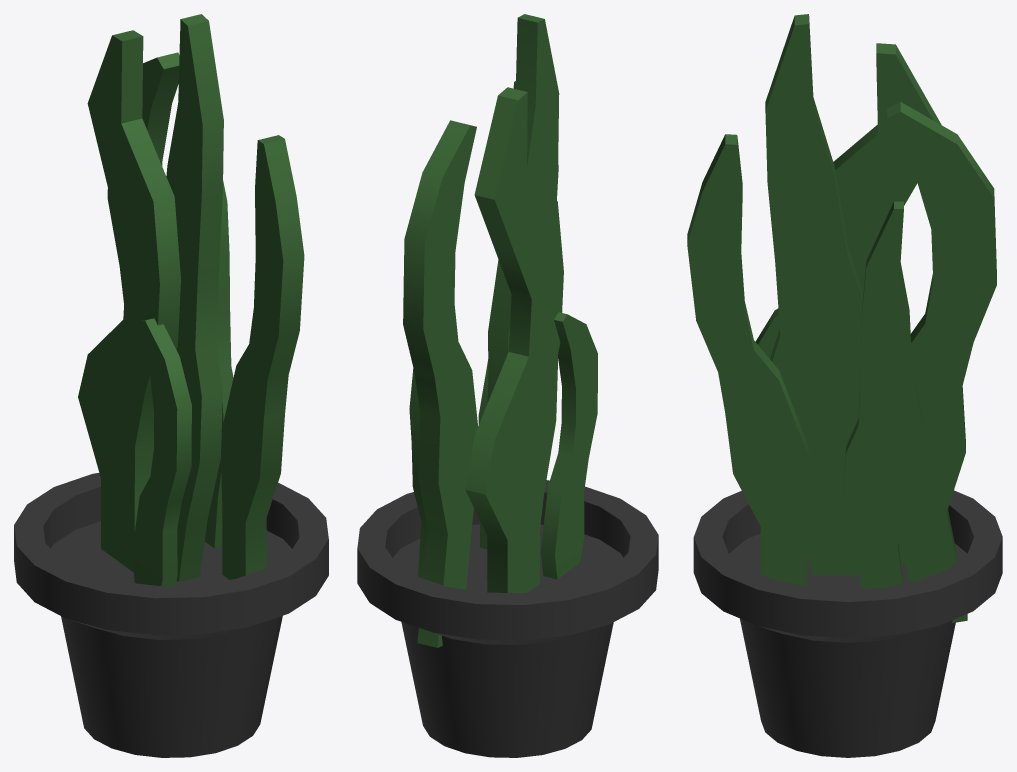
The model's file is Inside_Bush_2.fbx.
3 renders of one model, left to right at view 1: azimuth 30°, elevation 25°; view 2: azimuth 150°, elevation 25°; view 3: azimuth 270°, elevation 25°, orthographic. The views are drawn at different scales.
Visible parts, largest first — view 1: Inside_Bush_2, Würfel, Würfel_3, Würfel_1, Würfel_5, Würfel_4, Würfel_2; view 2: Inside_Bush_2, Würfel, Würfel_2, Würfel_5, Würfel_1, Würfel_4, Würfel_3; view 3: Inside_Bush_2, Würfel_1, Würfel_2, Würfel_3, Würfel_4, Würfel, Würfel_5.
Boxes of the visible parts, x1,y1,x2,y2 form: Inside_Bush_2: (14, 473, 328, 757); Würfel: (78, 30, 180, 572); Würfel_3: (221, 135, 304, 579); Würfel_1: (166, 14, 223, 581); Würfel_5: (132, 318, 191, 585); Würfel_4: (205, 180, 233, 548); Würfel_2: (107, 52, 179, 303); Inside_Bush_2: (357, 480, 658, 757); Würfel: (465, 87, 563, 593); Würfel_2: (403, 120, 477, 647); Würfel_5: (540, 312, 597, 579); Würfel_1: (486, 14, 559, 581); Würfel_4: (409, 368, 427, 578); Würfel_3: (478, 81, 558, 549); Inside_Bush_2: (693, 490, 1002, 757); Würfel_1: (765, 14, 863, 575); Würfel_2: (887, 102, 996, 622); Würfel_3: (687, 134, 809, 586); Würfel_4: (843, 201, 921, 588); Würfel: (833, 43, 941, 563); Würfel_5: (755, 308, 807, 556).
Bounding box in the file's own units: 102 × 256 × 104.
